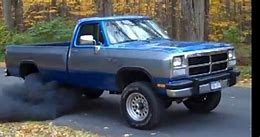smoke: (1, 77, 88, 123)
